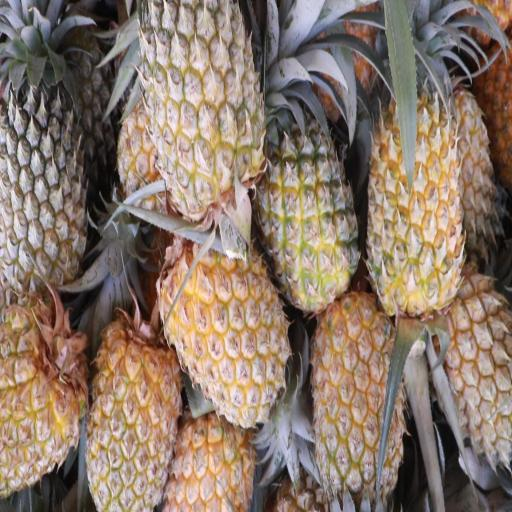------------------------------: (140, 2, 270, 232), (250, 70, 365, 318)
Pineapple - v8 v1: (362, 20, 468, 320), (154, 211, 293, 431), (308, 291, 410, 511), (83, 301, 185, 510), (421, 252, 512, 476), (0, 289, 97, 499)
